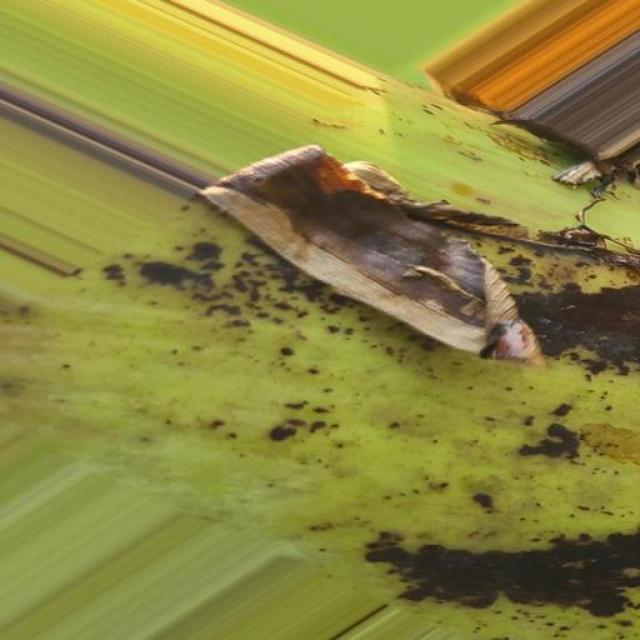Anthracnose: (17, 131, 640, 640)
